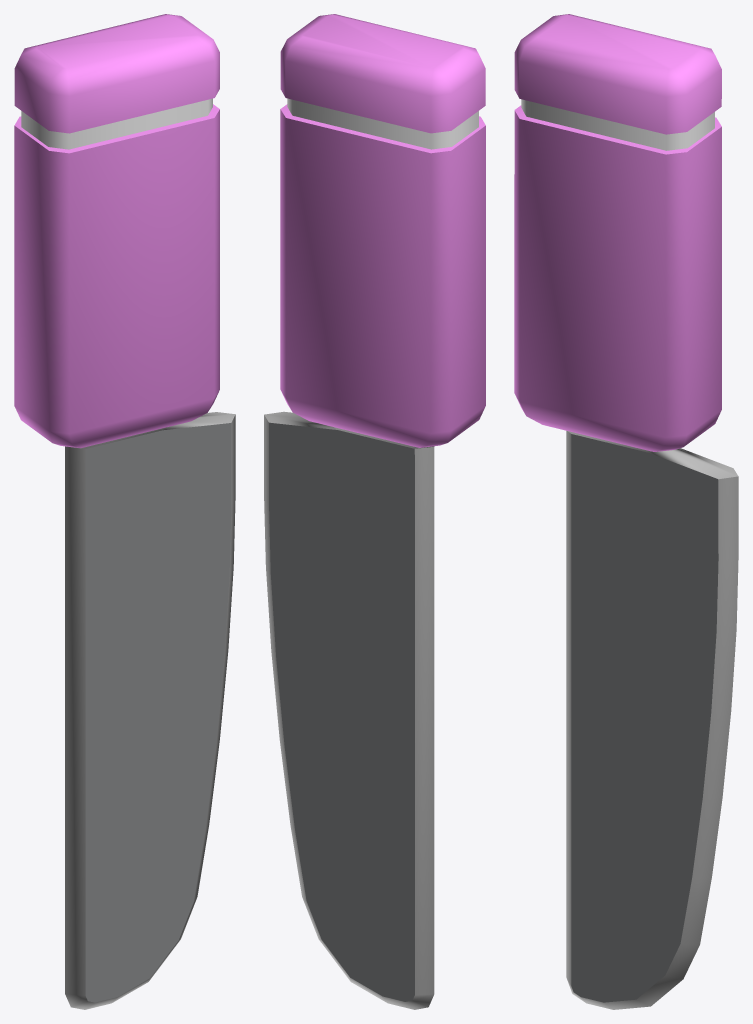
File: Cutter_knife.fbx
3 renders of one model, left to right at view 1: azimuth 30°, elevation 25°; view 2: azimuth 150°, elevation 25°; view 3: azimuth 330°, elevation 25°, orthographic.
Parts seen in each view (by area): view 1: Cutter_knife; view 2: Cutter_knife; view 3: Cutter_knife.
Boxes of the visible parts, x1,y1,x2,y2 form: Cutter_knife: (14,14,235,1009); Cutter_knife: (264,14,485,1009); Cutter_knife: (514,14,738,1009).
Bounding box in the file's own units: 1.41 × 6.32 × 0.5964.
